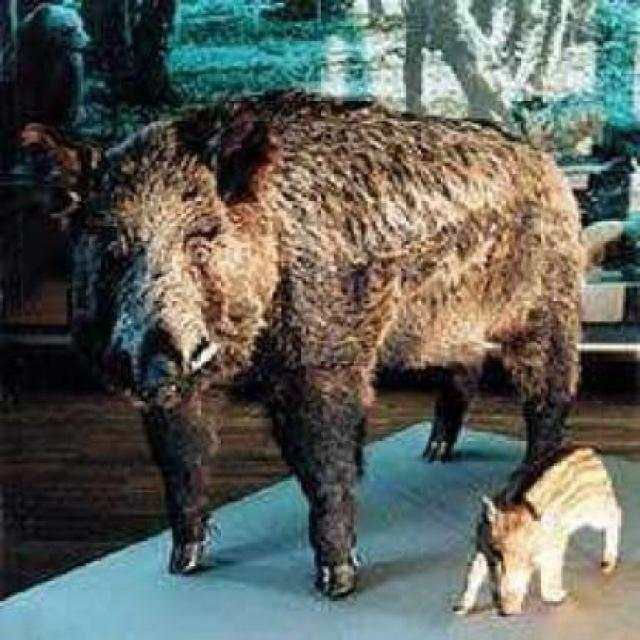pig: (14, 52, 529, 535), (450, 426, 618, 617)
